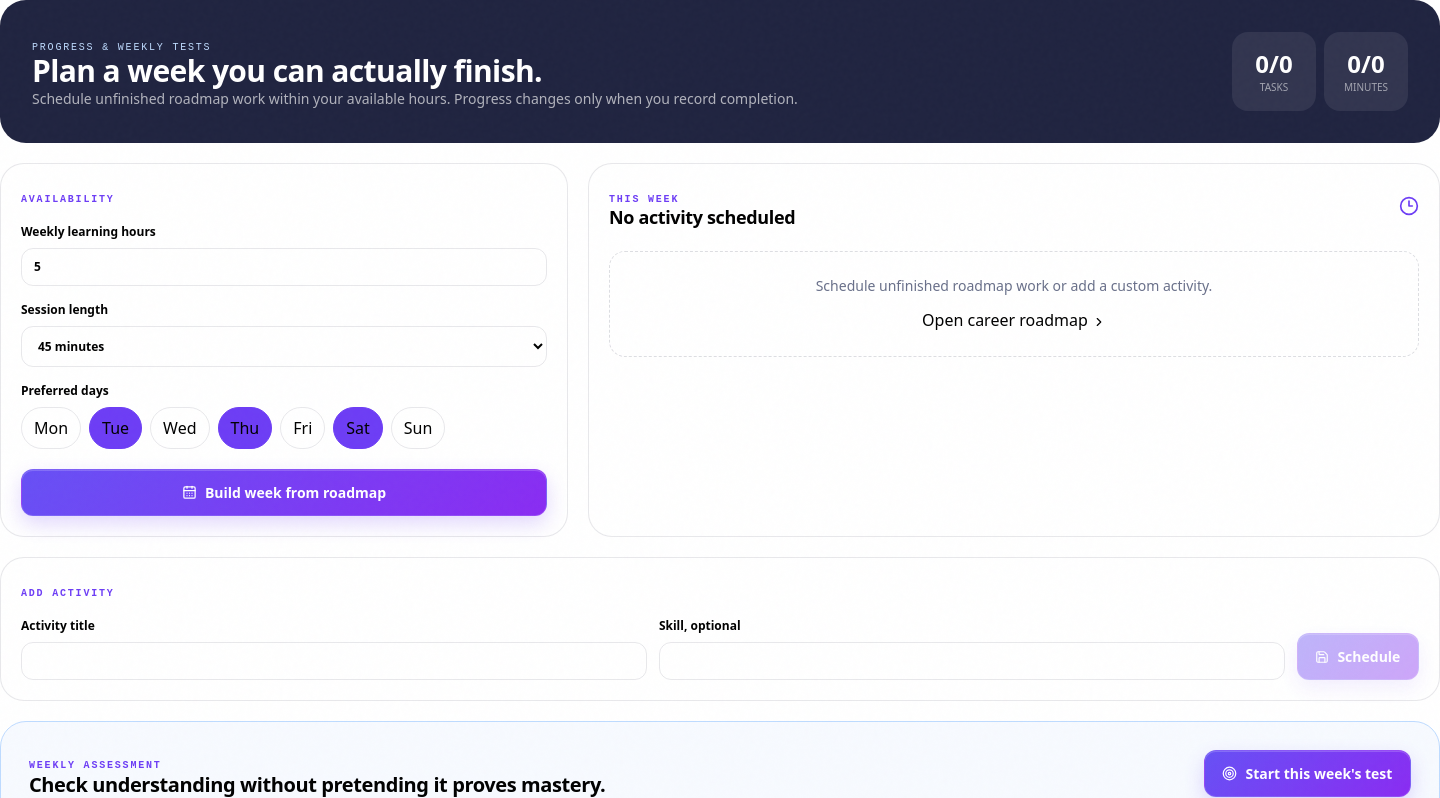
WeeklyPlanner › schedules real unfinished roadmap tasks within the weekly plan
Expected: the heading "Plan a week you can actually finish." is shown, [32,50,542,91]
Click the button "Build week from roadmap" at (284, 492), box [21,469,547,516]
(page scrolled)
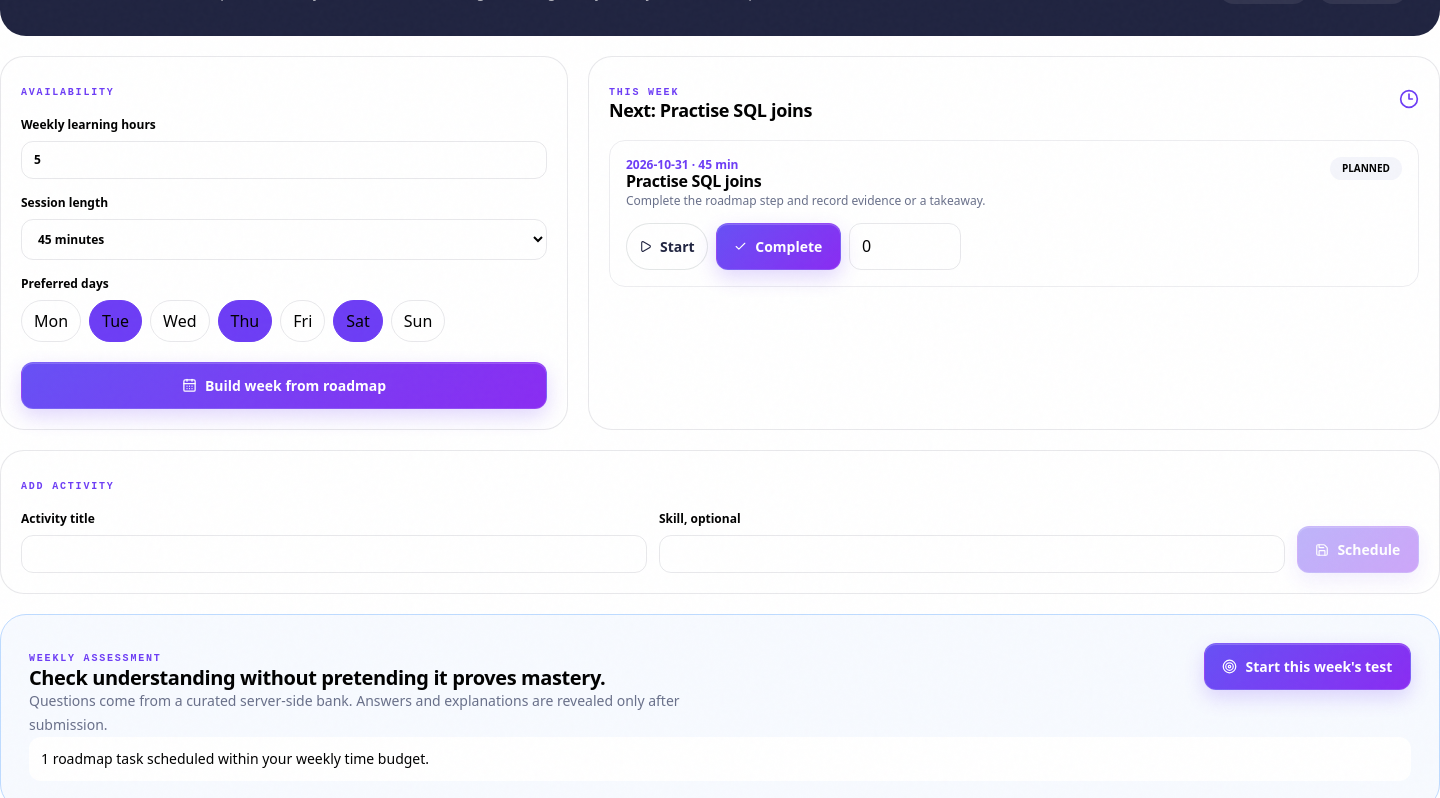
Now the heading "Practise SQL joins" is shown, box [626,170,761,192]
Now the text "1 roadmap task scheduled within your weekly time budget." is shown, box [29,737,1411,781]
